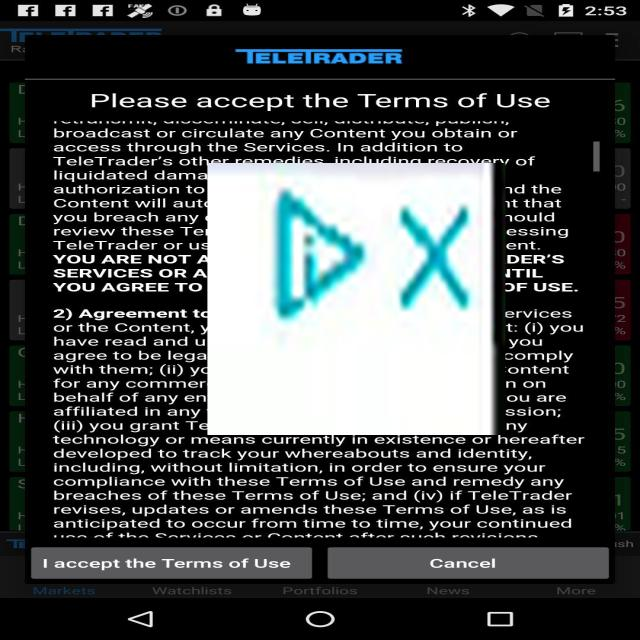sneaking: (208, 163, 506, 435)
